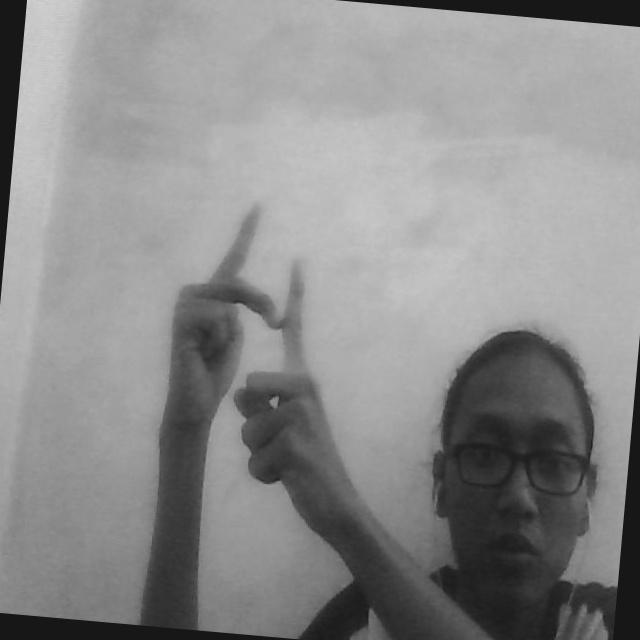H: (176, 191, 340, 449)
